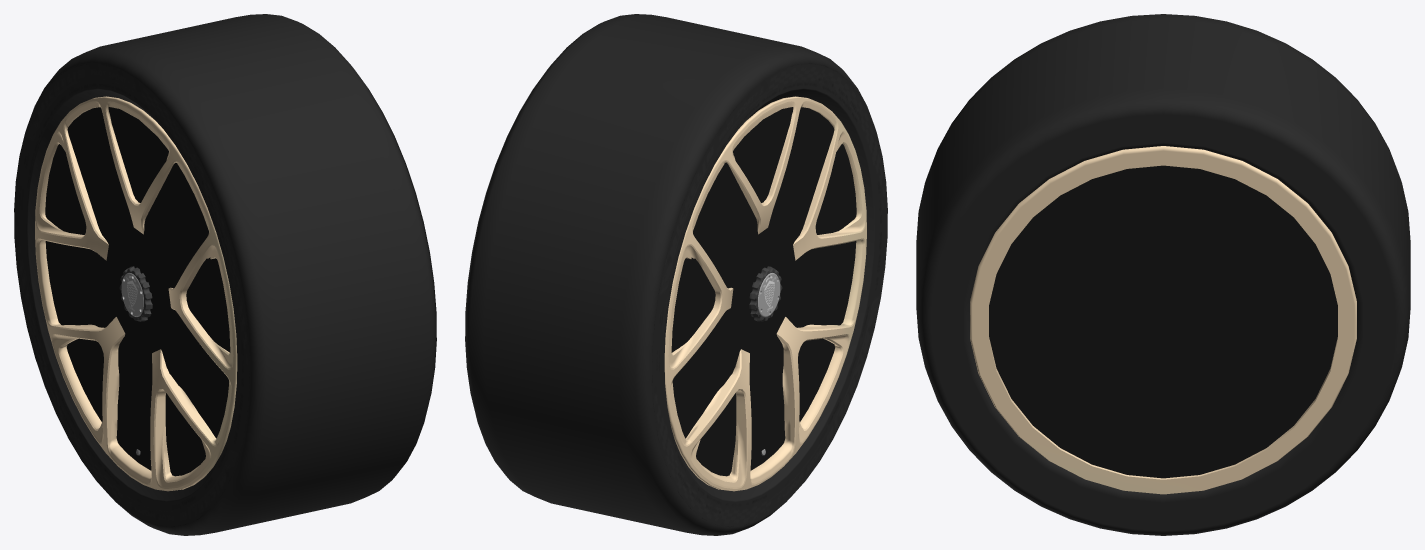
The model's file is Gemera_Wheel_Front.obj.
3 renders of one model, left to right at view 1: azimuth 30°, elevation 25°; view 2: azimuth 150°, elevation 25°; view 3: azimuth 270°, elevation 25°, orthographic.
Visible parts, largest first — view 1: polySurface1.001; view 2: polySurface1.001; view 3: polySurface1.001.
Part boxes in pixels (x1,y1,x2,y2): polySurface1.001: [14, 14, 436, 535]; polySurface1.001: [465, 14, 887, 535]; polySurface1.001: [916, 14, 1410, 535].
Bounding box in the file's own units: 0.3247 × 0.716 × 0.7104.
2 materials, 1 textured.
